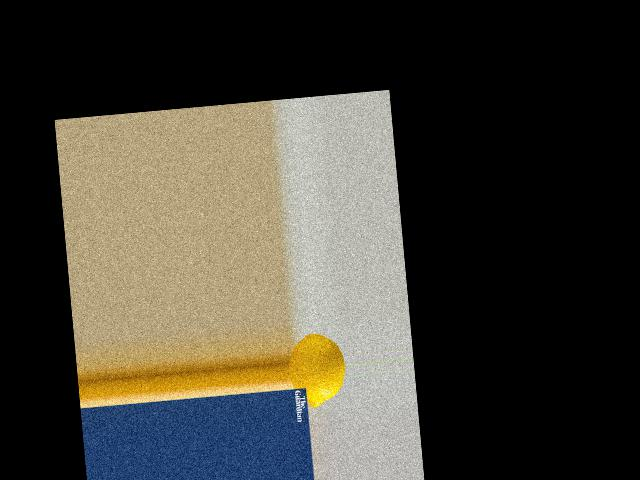lemon: (285, 326, 348, 413)
